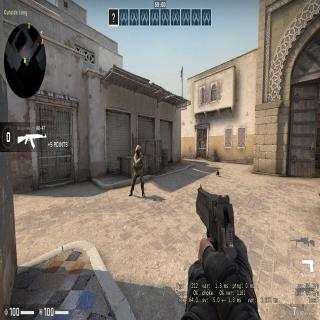CT-Body: (130, 146, 145, 194)
CT-Head: (134, 146, 142, 155)
